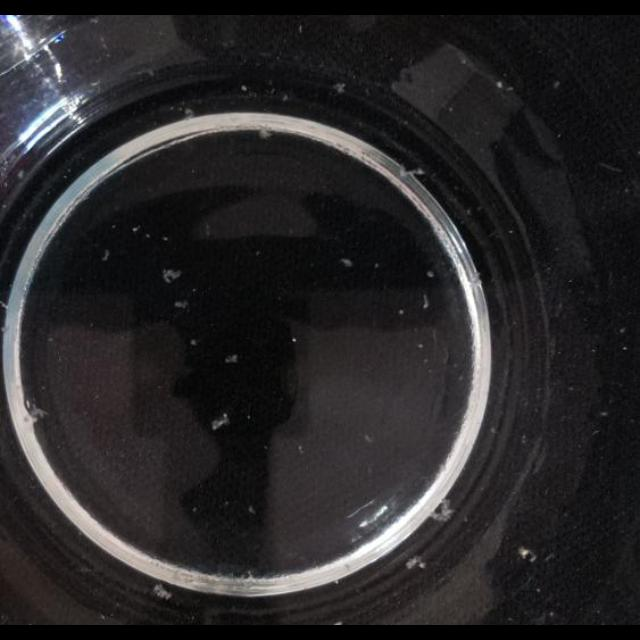Fibre: (146, 584, 180, 604), (206, 408, 230, 432), (431, 501, 455, 524), (27, 402, 49, 422), (162, 268, 182, 282), (403, 168, 425, 180), (258, 128, 274, 140), (332, 82, 346, 94)
microbeads: (404, 555, 426, 571), (518, 548, 536, 562), (174, 298, 188, 310), (225, 354, 238, 364), (422, 293, 430, 309), (340, 258, 352, 268), (102, 249, 110, 261), (363, 433, 372, 443), (426, 270, 436, 278), (552, 80, 560, 90), (296, 444, 304, 454), (248, 505, 256, 515), (132, 225, 140, 233), (190, 338, 198, 346), (619, 326, 627, 334), (240, 84, 248, 92), (398, 308, 404, 316), (418, 342, 424, 350), (600, 411, 608, 417), (162, 235, 168, 242), (623, 346, 629, 352)
